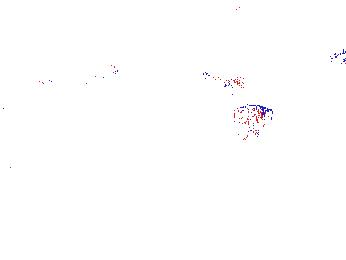X-ray fish: (232, 103, 275, 140)
red belly glassfish: (229, 1, 255, 14)
redtail glassfish: (31, 61, 123, 94), (200, 68, 241, 98)
